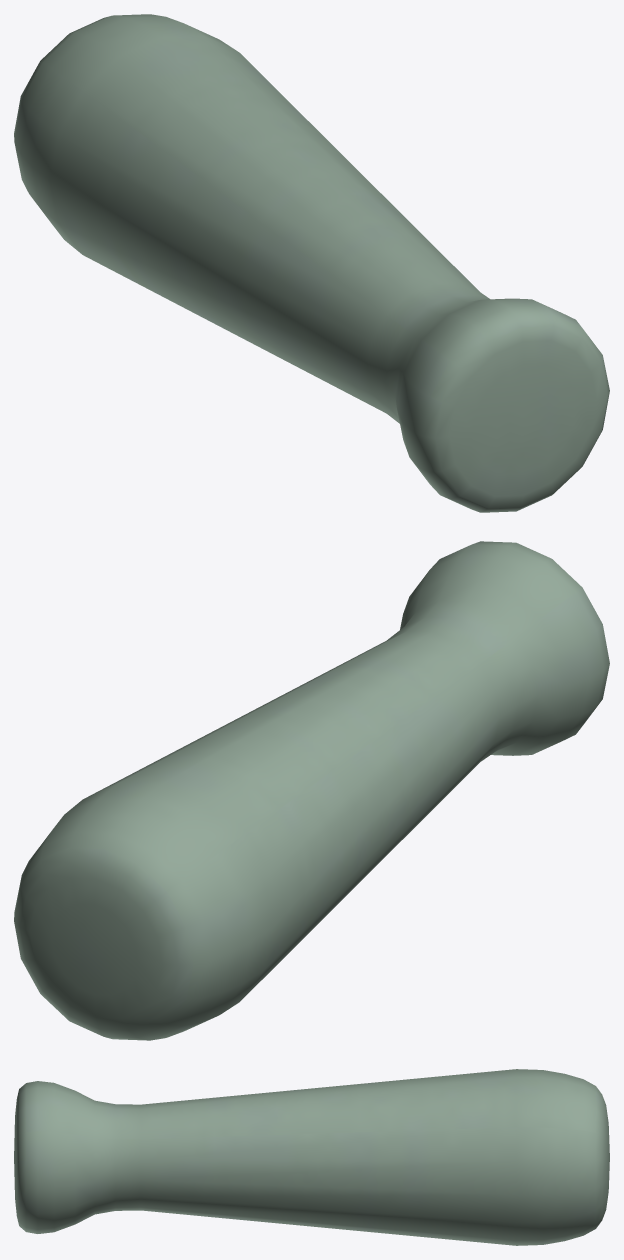
3 renders of one model, top to bottom at view 1: azimuth 30°, elevation 25°; view 2: azimuth 150°, elevation 25°; view 3: azimuth 270°, elevation 25°, orthographic. The views are drawn at different scales.
Visible parts, largest first — view 1: SM_研锤001; view 2: SM_研锤001; view 3: SM_研锤001.
Boxes of the visible parts, bbox=[...] form: SM_研锤001: bbox=[14, 14, 609, 512]; SM_研锤001: bbox=[14, 541, 609, 1040]; SM_研锤001: bbox=[14, 1069, 609, 1245].
Bounding box in the file's own units: 0.0334 × 0.0334 × 0.1124.
